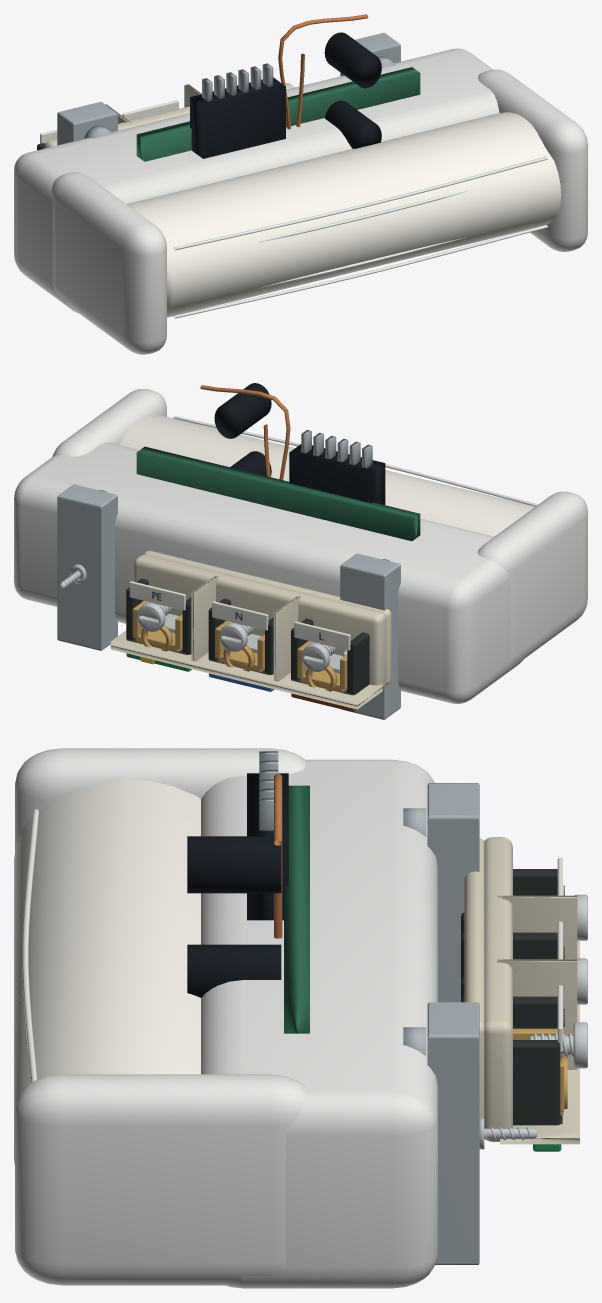
Rendered from lamp_batten.glb.
3 views of the same model, one above another, from view 1: azimuth 30°, elevation 25°; view 2: azimuth 150°, elevation 25°; view 3: azimuth 270°, elevation 25° (orthographic). The views are drawn at different scales.
Parts seen in each view (by area): view 1: part:body · Original 7dbee62c, part:cover, part:electronics.001 · Original 3ff2d46d, part:electronics.001, part:cover · Original 7dbee62c, part:mounting · Original 2a8198d3, part:electronics.001 · Original 2a8198d3, part:electronics.001 · Original db0da9ae, part:terminals · Original 5a609f27, Moulded terminal legend pad.001; view 2: part:body · Original 7dbee62c, part:terminals · Original 5a609f27, part:mounting · Original 2a8198d3, part:cover, part:electronics.001, part:electronics.001 · Original 3ff2d46d, detail:terminal-clamp:L · Detail moulded engineering polymer, part:electronics.001 · Original 2a8198d3, detail:terminal-clamp:PE · Detail machined brass, detail:terminal-clamp:L · Detail machined brass, detail:terminal-clamp:N · Detail machined brass, detail:terminal-clamp:PE · Detail moulded engineering polyme (+9 smaller); view 3: part:body · Original 7dbee62c, part:cover, part:mounting · Original 2a8198d3, part:terminals · Original 5a609f27, part:electronics.001 · Original 3ff2d46d, part:electronics.001, detail:terminal-clamp:PE · Detail moulded engineering polyme, part:cover · Original 7dbee62c, detail:terminal-clamp:N · Detail moulded engineering polymer, part:electronics.001 · Original 2a8198d3, detail:terminal-clamp:L · Detail moulded engineering polymer, part:electronics.001 · Original db0da9ae (+2 smaller).
Part boxes in pixels (x1,y1,x2,y2): part:body · Original 7dbee62c: [14, 48, 587, 354]; part:cover: [126, 112, 561, 317]; part:electronics.001 · Original 3ff2d46d: [190, 32, 381, 158]; part:electronics.001: [136, 67, 420, 161]; part:cover · Original 7dbee62c: [173, 156, 547, 318]; part:mounting · Original 2a8198d3: [57, 32, 400, 145]; part:electronics.001 · Original 2a8198d3: [202, 63, 273, 101]; part:electronics.001 · Original db0da9ae: [278, 14, 368, 129]; part:terminals · Original 5a609f27: [44, 83, 294, 148]; Moulded terminal legend pad.001: [122, 100, 178, 120]; part:body · Original 7dbee62c: [14, 389, 587, 703]; part:terminals · Original 5a609f27: [110, 550, 391, 709]; part:mounting · Original 2a8198d3: [57, 484, 400, 719]; part:cover: [119, 414, 534, 536]; part:electronics.001: [136, 446, 420, 541]; part:electronics.001 · Original 3ff2d46d: [214, 383, 385, 504]; detail:terminal-clamp:L · Detail moulded engineering polymer: [291, 618, 369, 695]; part:electronics.001 · Original 2a8198d3: [301, 430, 372, 468]; detail:terminal-clamp:PE · Detail machined brass: [132, 601, 182, 652]; detail:terminal-clamp:L · Detail machined brass: [297, 641, 347, 692]; detail:terminal-clamp:N · Detail machined brass: [215, 621, 264, 672]; detail:terminal-clamp:PE · Detail moulded engineering polyme: [126, 578, 191, 654]; part:body · Original 7dbee62c: [15, 748, 437, 1288]; part:cover: [14, 779, 200, 1165]; part:mounting · Original 2a8198d3: [403, 783, 479, 1264]; part:terminals · Original 5a609f27: [464, 837, 579, 1144]; part:electronics.001 · Original 3ff2d46d: [187, 773, 288, 997]; part:electronics.001: [284, 785, 309, 1033]; detail:terminal-clamp:PE · Detail moulded engineering polyme: [461, 996, 562, 1125]; part:cover · Original 7dbee62c: [22, 809, 38, 1082]; detail:terminal-clamp:N · Detail moulded engineering polymer: [461, 932, 557, 999]; part:electronics.001 · Original 2a8198d3: [259, 751, 278, 830]; detail:terminal-clamp:L · Detail moulded engineering polymer: [461, 869, 557, 935]; part:electronics.001 · Original db0da9ae: [274, 773, 282, 938].
Size of the model in its own units: 0.95 by 0.4669 by 0.6467.
